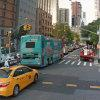Bus: (17, 30, 70, 73)
